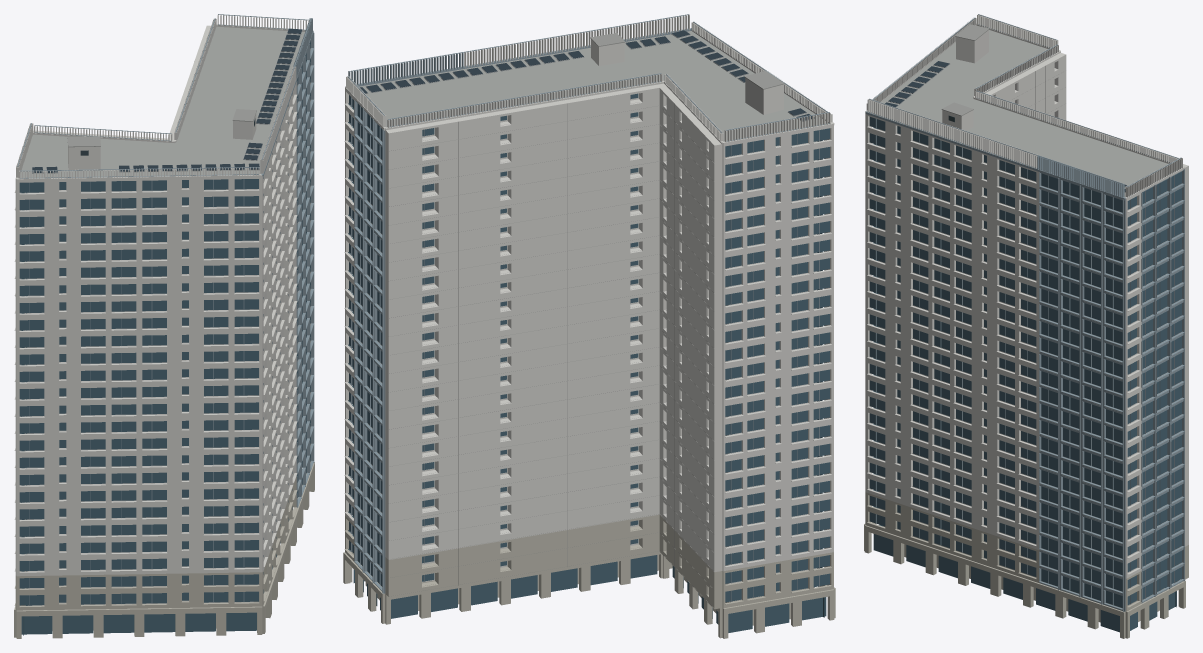
Rendered from bespoke-maple-xi-202.glb.
3 views of the same model, side by side, from view 1: azimuth 30°, elevation 25°; view 2: azimuth 150°, elevation 25°; view 3: azimuth 270°, elevation 25° (orthographic). The views are drawn at different scales.
Parts seen in each view (by area): view 1: Maple202_numbered_plan_inset_body, Maple202_e0_end_glass, Maple202_numbered_plan_roof, Maple202_e0_end_unequal_sash, Maple202_recessed_stone_lobby, Maple202_PV_cells, Maple202_PV_frame, Maple202_e1_cladding_joint; view 2: Maple202_numbered_plan_inset_body, Maple202_e0_end_glass, Maple202_recessed_stone_lobby, Maple202_e0_end_unequal_sash, Maple202_numbered_plan_roof, Maple202_e1_cladding_joint, Maple202_PV_cells, Maple202_PV_frame; view 3: Maple202_numbered_plan_inset_body, Maple202_e0_end_glass, Maple202_e0_end_unequal_sash, Maple202_numbered_plan_roof, Maple202_recessed_stone_lobby, Maple202_e1_cladding_joint, Maple202_PV_cells.
Part boxes in pixels (x1=…): Maple202_numbered_plan_inset_body: x1=14, y1=15, x2=311, y2=605; Maple202_e0_end_glass: x1=19, y1=41, x2=310, y2=635; Maple202_numbered_plan_roof: x1=20, y1=26, x2=304, y2=177; Maple202_e0_end_unequal_sash: x1=17, y1=14, x2=314, y2=605; Maple202_recessed_stone_lobby: x1=14, y1=428, x2=314, y2=638; Maple202_PV_cells: x1=32, y1=28, x2=302, y2=172; Maple202_PV_frame: x1=32, y1=29, x2=302, y2=173; Maple202_e1_cladding_joint: x1=67, y1=109, x2=256, y2=147; Maple202_numbered_plan_inset_body: x1=344, y1=14, x2=834, y2=601; Maple202_e0_end_glass: x1=348, y1=93, x2=829, y2=632; Maple202_recessed_stone_lobby: x1=343, y1=514, x2=835, y2=638; Maple202_e0_end_unequal_sash: x1=345, y1=14, x2=830, y2=601; Maple202_numbered_plan_roof: x1=358, y1=31, x2=828, y2=141; Maple202_e1_cladding_joint: x1=389, y1=33, x2=784, y2=607; Maple202_PV_cells: x1=359, y1=30, x2=814, y2=120; Maple202_PV_frame: x1=362, y1=33, x2=814, y2=121; Maple202_numbered_plan_inset_body: x1=865, y1=14, x2=1188, y2=591; Maple202_e0_end_glass: x1=869, y1=117, x2=1181, y2=632; Maple202_e0_end_unequal_sash: x1=865, y1=14, x2=1184, y2=611; Maple202_numbered_plan_roof: x1=881, y1=30, x2=1168, y2=197; Maple202_recessed_stone_lobby: x1=864, y1=489, x2=1188, y2=638; Maple202_e1_cladding_joint: x1=941, y1=24, x2=1183, y2=610; Maple202_PV_cells: x1=885, y1=61, x2=1126, y2=191.
Bounding box in the file's own units: 68.45 × 83.57 × 53.29.
